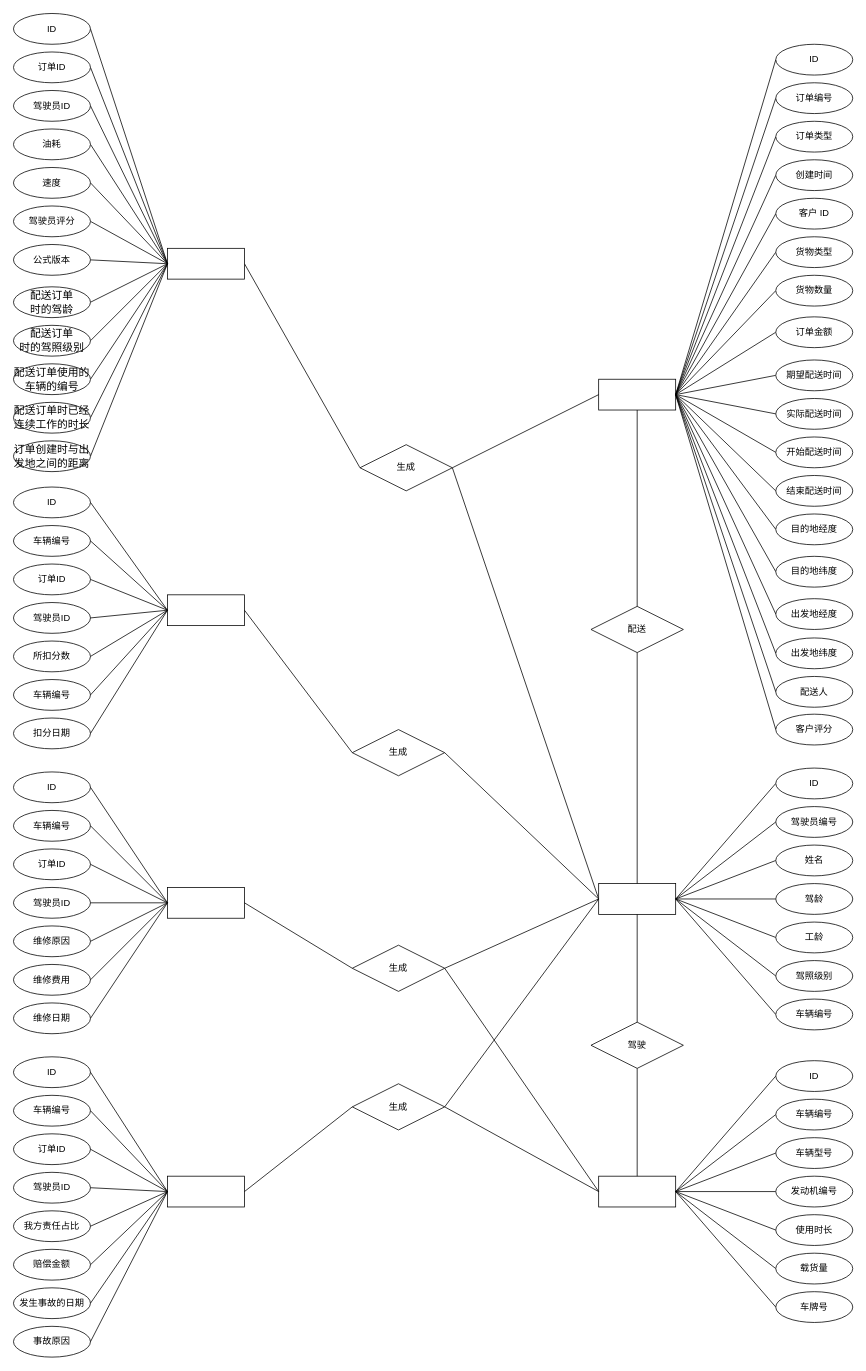
The diagram is 866 pixels wide and 1371 high, and some of its shapes have lost their labels. Each missing label, with the centre of its shape:
订单: point (637, 394)
车辆: point (637, 1191)
车辆事故记录: point (205, 1191)
车辆维修记录: point (205, 902)
驾驶员: point (637, 898)
驾驶员违章记录: point (205, 610)
驾驶员配送订单记录: point (205, 263)
